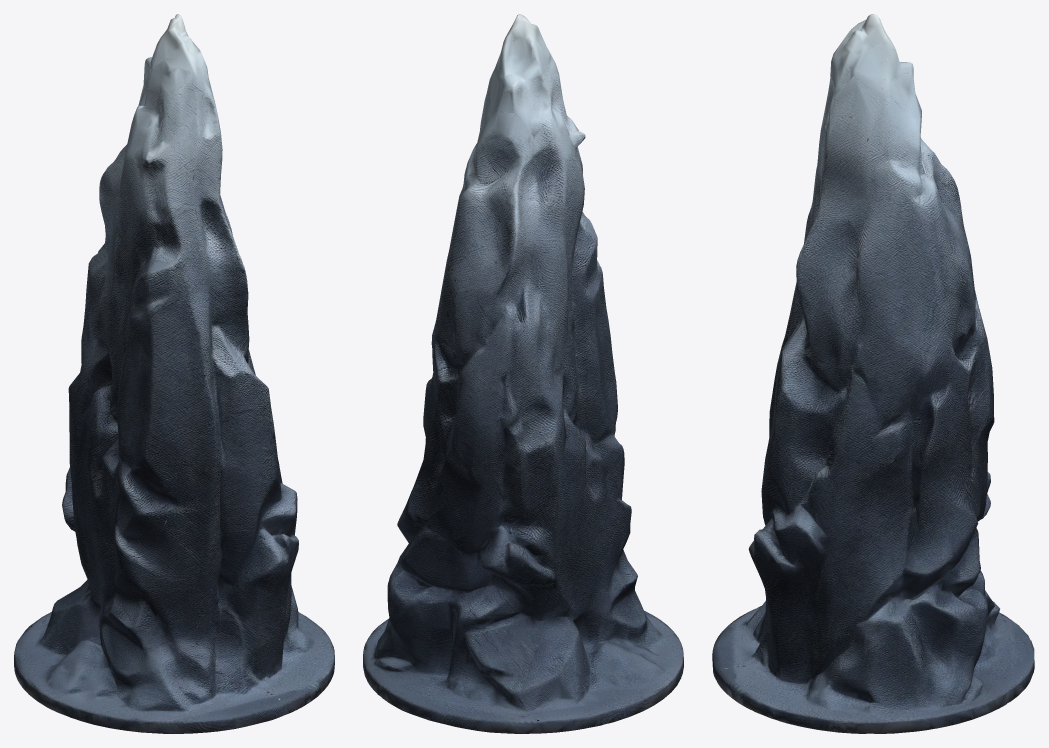
File: rock3.glb
The picture shows the model from 3 angles, left to right: view 1: azimuth 30°, elevation 25°; view 2: azimuth 150°, elevation 25°; view 3: azimuth 270°, elevation 25°; orthographic projection.
Size of the model in its own units: 0.8463 by 1.9 by 0.846.
Materials: 1 (1 with a texture image).
